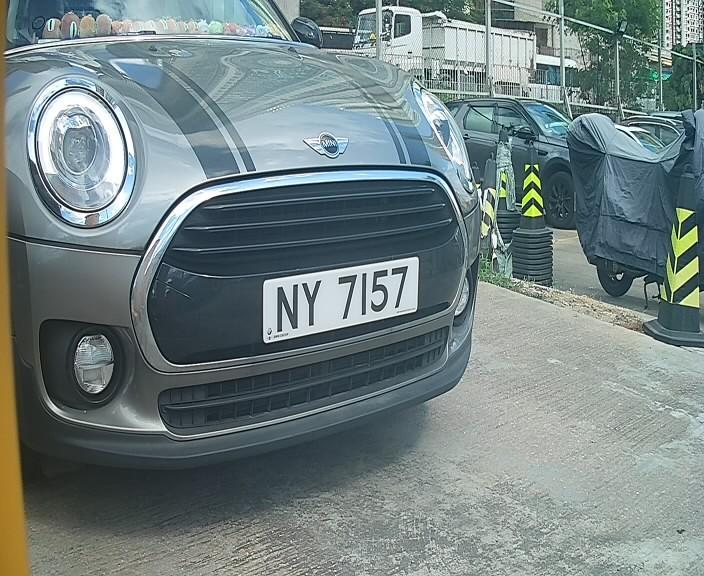License Plate: (258, 255, 415, 348)
